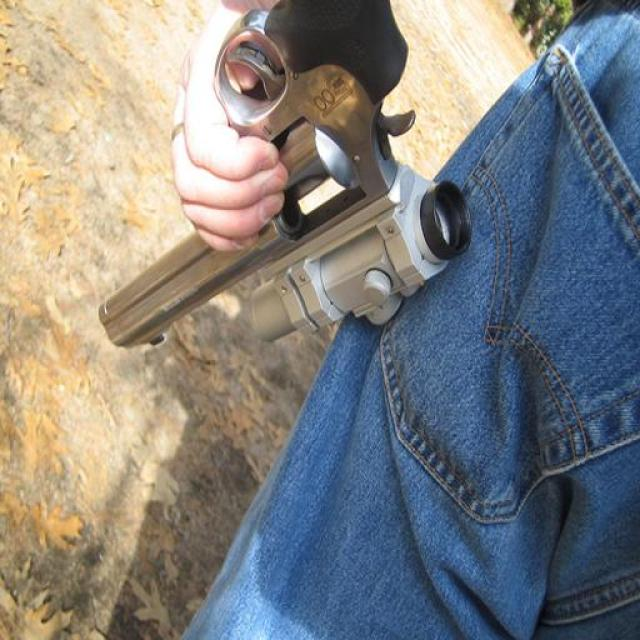pistol: (96, 1, 471, 347)
